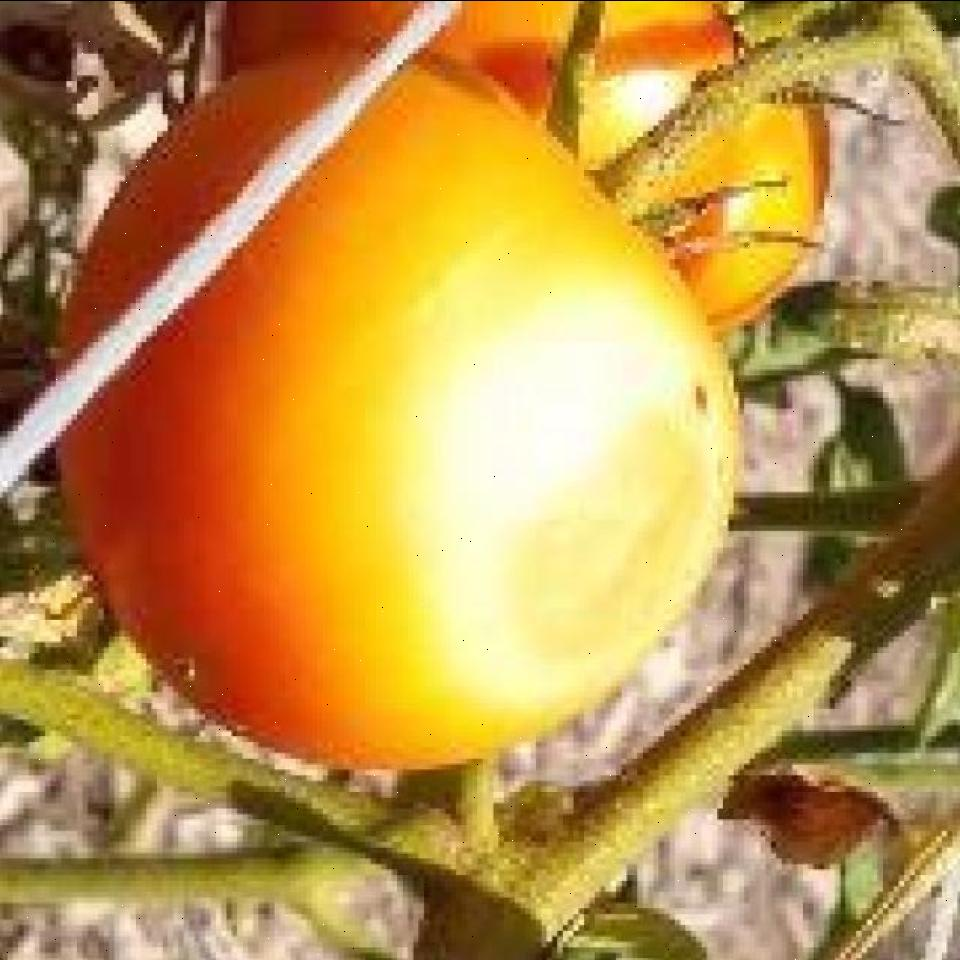Sunscald: (341, 270, 737, 746)
